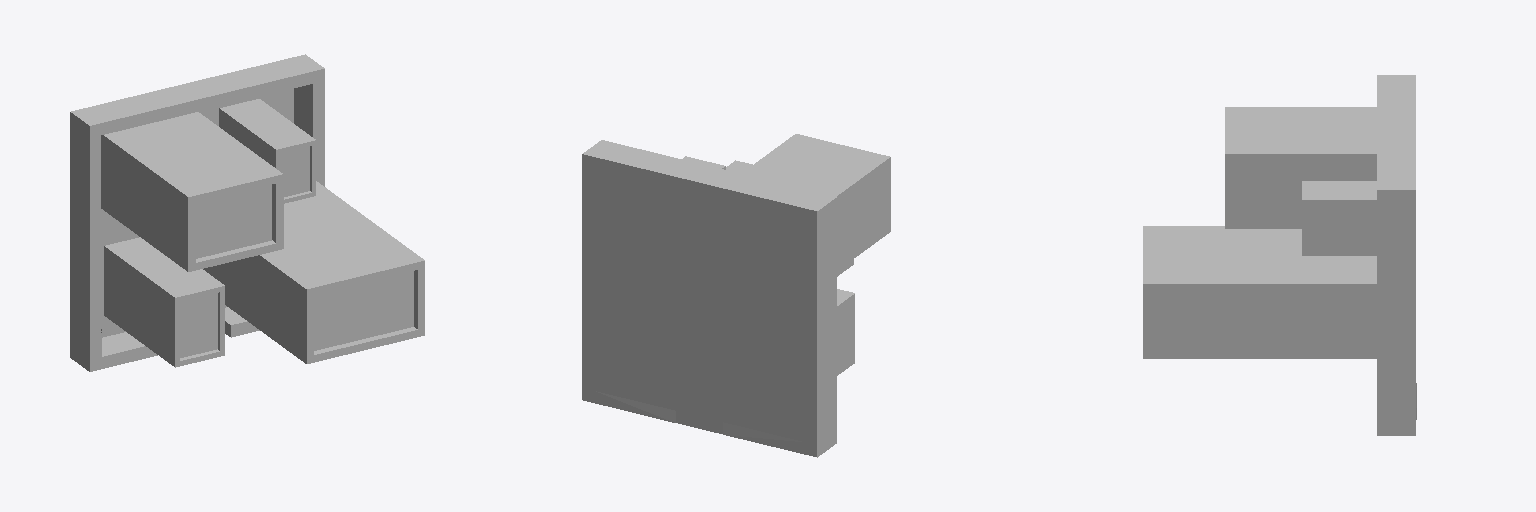
Rendered from city01.obj.
The picture shows the model from 3 angles: view 1: azimuth 30°, elevation 25°; view 2: azimuth 150°, elevation 25°; view 3: azimuth 270°, elevation 25°; orthographic projection.
Size of the model in its own units: 1 by 1 by 1.01.